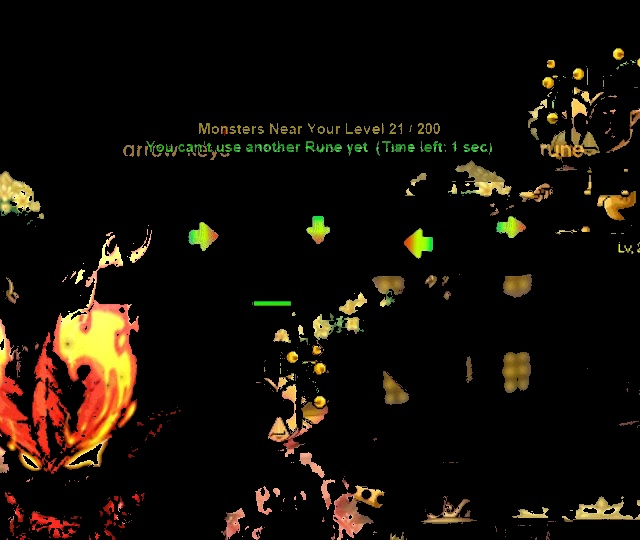down: (297, 209, 340, 256)
left: (394, 225, 440, 269)
right: (181, 216, 224, 259), (487, 209, 533, 247)
